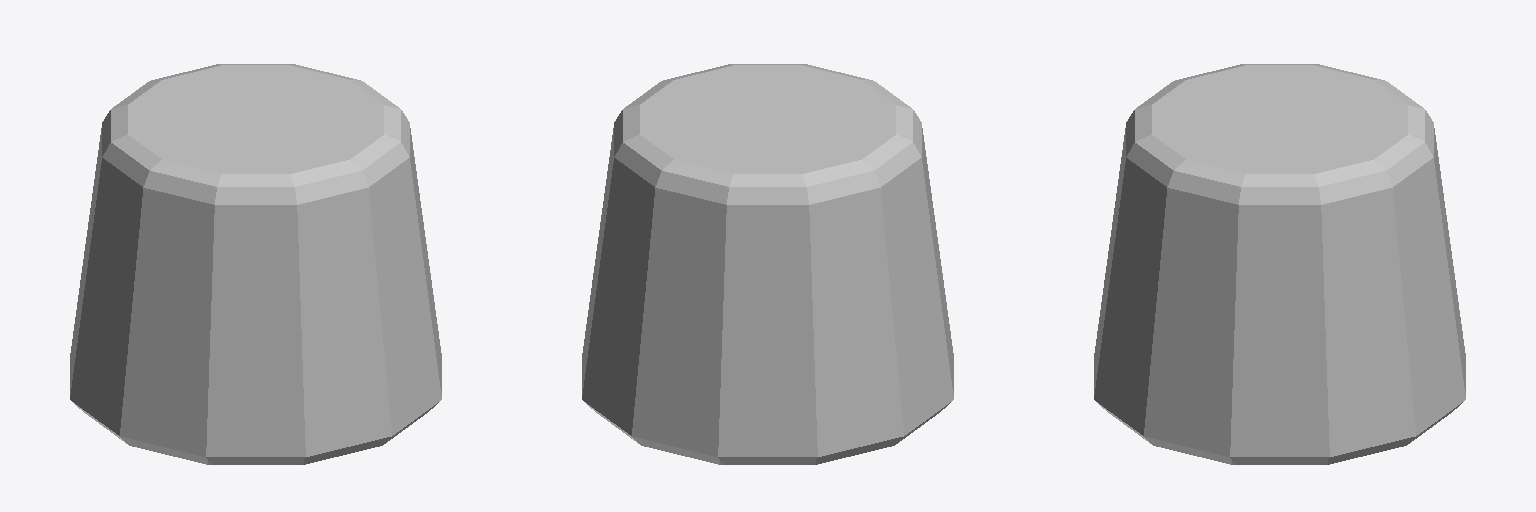
The model's file is sandcastle_A.obj.
3 views of the same model, side by side, from view 1: azimuth 30°, elevation 25°; view 2: azimuth 150°, elevation 25°; view 3: azimuth 270°, elevation 25° (orthographic).
Parts seen in each view (by area): view 1: sandcastle_A; view 2: sandcastle_A; view 3: sandcastle_A.
Part boxes in pixels (x1,y1,x2,y2): sandcastle_A: (70, 64, 441, 464); sandcastle_A: (582, 64, 953, 464); sandcastle_A: (1094, 64, 1465, 464).
Bounding box in the file's own units: 0.4951 × 0.4 × 0.4951.